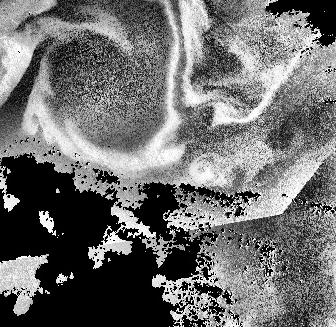AE: (32, 16, 183, 172)
